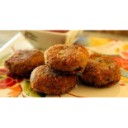cutlet: (32, 67, 77, 94), (45, 45, 87, 72), (84, 58, 122, 84), (6, 45, 42, 72)
